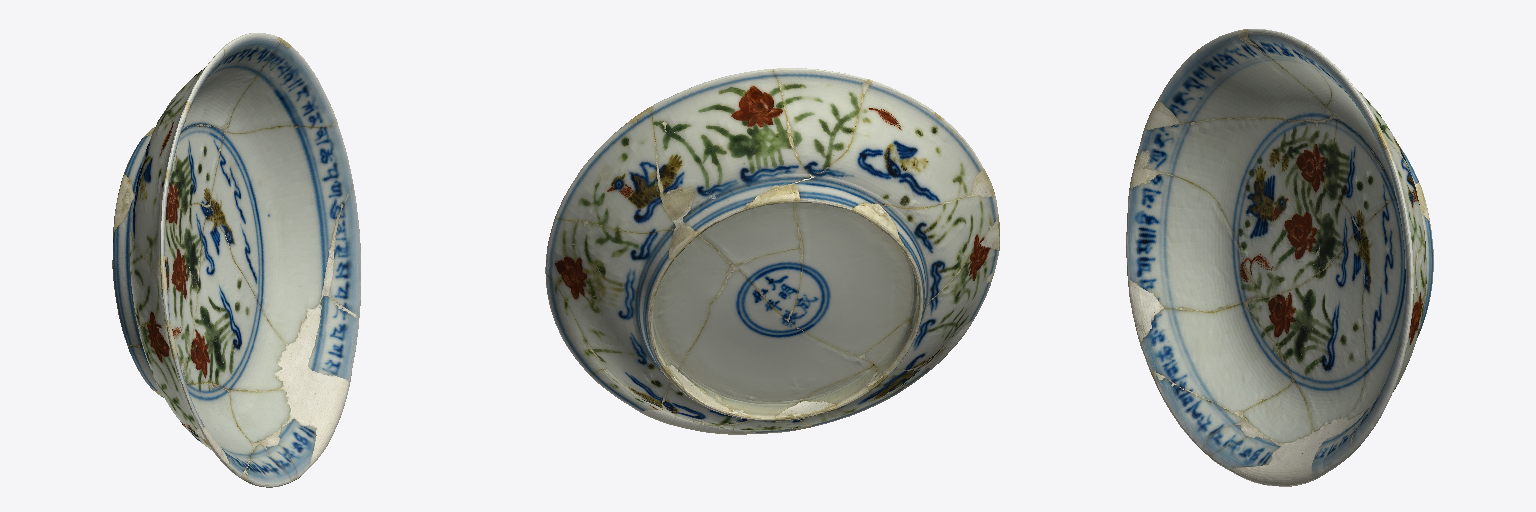
The picture shows the model from 3 angles: view 1: azimuth 30°, elevation 25°; view 2: azimuth 150°, elevation 25°; view 3: azimuth 270°, elevation 25°; orthographic projection.
Size of the model in its own units: 138 by 166 by 115.
3 materials, 3 textured.